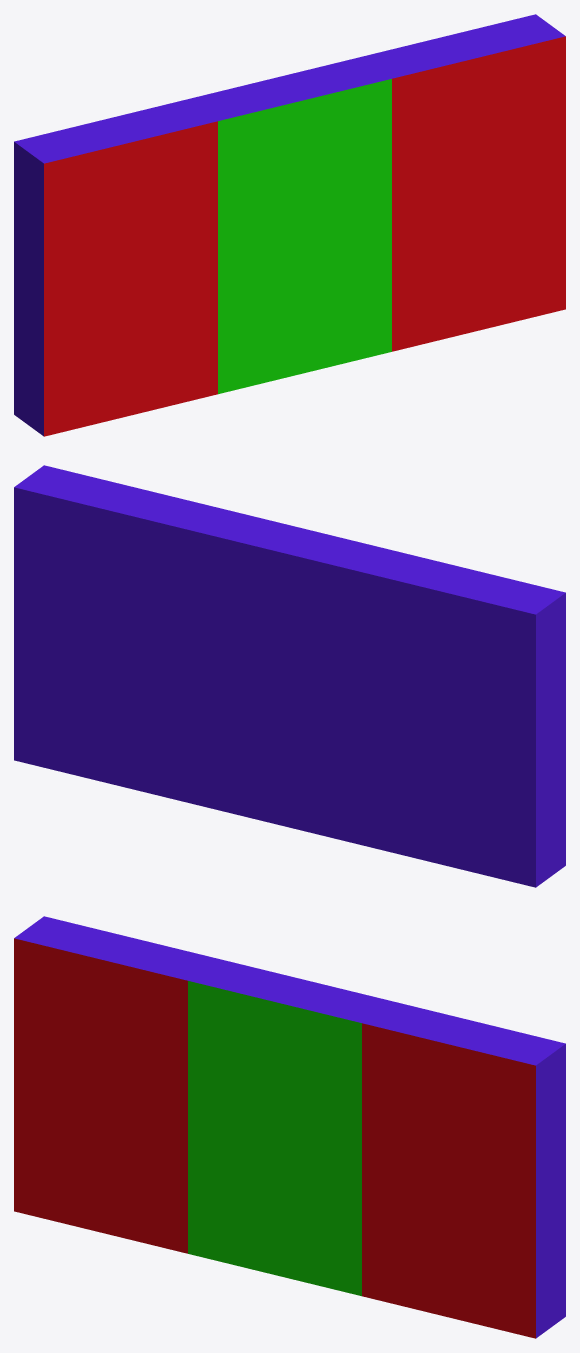
File: octagon_wall_two-material_open-centre.fbx
3 renders of one model, top to bottom at view 1: azimuth 30°, elevation 25°; view 2: azimuth 150°, elevation 25°; view 3: azimuth 330°, elevation 25°, orthographic.
Parts seen in each view (by area): view 1: Cube.001; view 2: Cube.001; view 3: Cube.001.
Part boxes in pixels (x1,y1,x2,y2): Cube.001: [14, 14, 565, 436]; Cube.001: [14, 465, 565, 887]; Cube.001: [14, 916, 565, 1338].
Bounding box in the file's own units: 20 × 10 × 2.
